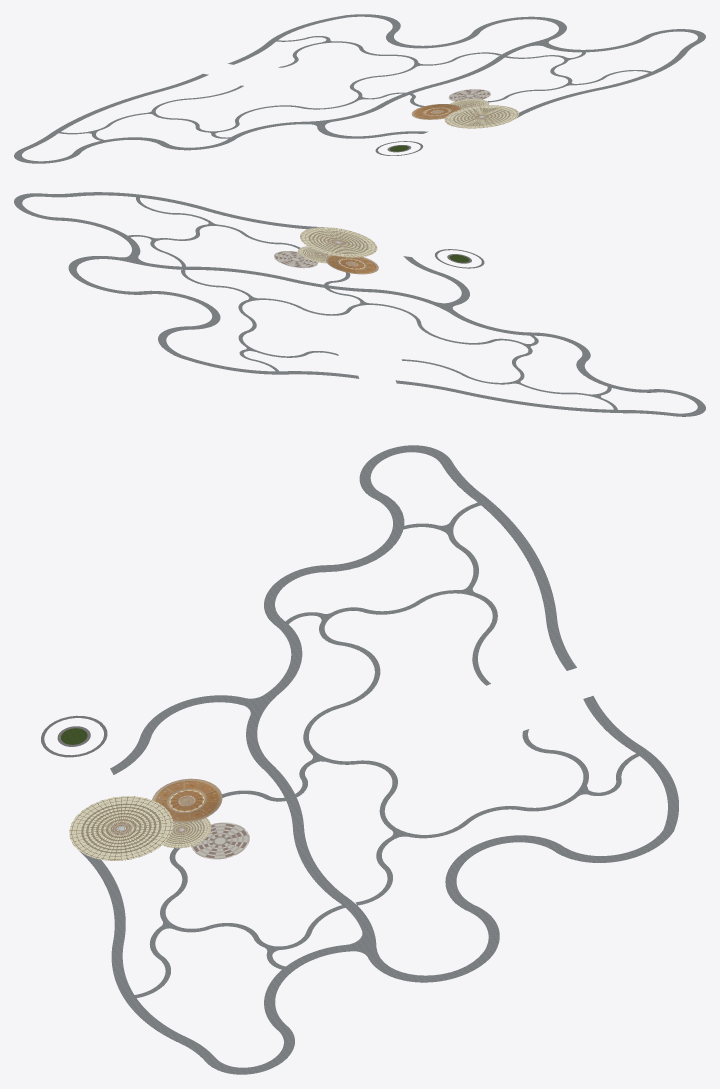
File: gongyuan1.gltf
3 renders of one model, top to bottom at view 1: azimuth 30°, elevation 25°; view 2: azimuth 150°, elevation 25°; view 3: azimuth 270°, elevation 25°, orthographic. The views are drawn at different scales.
Parts seen in each view (by area): view 1: Obj3d66-602692-6-604, Obj3d66-602692-7-223, Obj3d66-602692-182-818, Obj3d66-602692-180-815, Obj3d66-602692-181-211, Obj3d66-602692-179-447; view 2: Obj3d66-602692-6-604, Obj3d66-602692-7-223, Obj3d66-602692-182-818, Obj3d66-602692-180-815, Obj3d66-602692-181-211; view 3: Obj3d66-602692-6-604, Obj3d66-602692-7-223, Obj3d66-602692-182-818, Obj3d66-602692-180-815, Obj3d66-602692-181-211, Obj3d66-602692-179-447.
Part boxes in pixels (bbox=[...]): Obj3d66-602692-6-604: bbox=[14, 14, 705, 163]; Obj3d66-602692-7-223: bbox=[59, 36, 651, 140]; Obj3d66-602692-182-818: bbox=[444, 105, 518, 128]; Obj3d66-602692-180-815: bbox=[411, 104, 462, 119]; Obj3d66-602692-181-211: bbox=[448, 89, 490, 101]; Obj3d66-602692-179-447: bbox=[450, 99, 488, 108]; Obj3d66-602692-6-604: bbox=[14, 192, 705, 416]; Obj3d66-602692-7-223: bbox=[128, 197, 617, 409]; Obj3d66-602692-182-818: bbox=[300, 227, 377, 257]; Obj3d66-602692-180-815: bbox=[325, 255, 378, 274]; Obj3d66-602692-181-211: bbox=[274, 251, 317, 268]; Obj3d66-602692-6-604: bbox=[79, 445, 678, 1074]; Obj3d66-602692-7-223: bbox=[134, 502, 639, 997]; Obj3d66-602692-182-818: bbox=[69, 796, 173, 860]; Obj3d66-602692-180-815: bbox=[152, 778, 222, 822]; Obj3d66-602692-181-211: bbox=[191, 822, 249, 859]; Obj3d66-602692-179-447: bbox=[162, 817, 211, 848].
Size of the model in its own units: 2354 by 0.0936 by 1009.
Materials: 8 (7 with a texture image).
